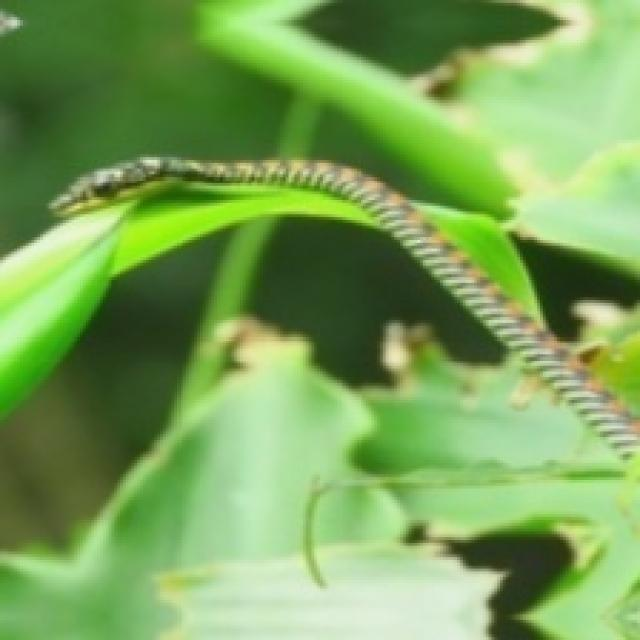paradise tree snake: (74, 160, 637, 637)
